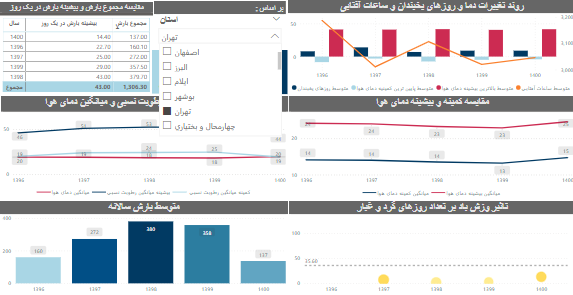

Layout of this report page (visuals, bound fields, positions):
{"tool":"powerbi","page":{"name":"وضعیت آب و هوا","canvas":[1280,720],"ordinal":0},"visuals":[{"type":"tableEx","title":"مقایسه مجموع بارش و بیشینه بارش در یک روز","fields":{"Values":["weathers.سال","Max(weathers.بیشینه بارندگی در یک روز (میلی متر))","Sum(weathers.بارندگی سالانه (میلی متر))"]},"box":[0,64.4,340,208.9],"z":0},{"type":"lineChart","title":"مقایسه کمینه و بیشینه دمای هوا","fields":{"Category":["weathers.سال"],"Y":["Avg(weathers.میانگین کمینه دمای هوا (درجه سلسیوس))","Avg(weathers.میانگین بیشینه دمای هوا (درجه سلسیوس))"]},"box":[642,273,637,232],"z":1000},{"type":"columnChart","title":"متوسط بارش سالانه","fields":{"Category":["weathers.سال"],"Y":["weathers.متوسط بارش سالانه"]},"box":[0,506,640,213],"z":2000},{"type":"lineChart","title":"مقایسه کمینه و بیشینه رطوبت نسبی و میانگین دمای هوا","fields":{"Category":["weathers.سال"],"Y":["Avg(weathers.میانگین دمای هوا (درجه سلسیوس))","Max(weathers.بیشینه میانگین رطوبت نسبی (درصد))","Min(weathers.کمینه میانگین رطوبت نسبی (درصد))"]},"box":[2,273,637.8,231.1],"z":3000},{"type":"lineClusteredColumnComboChart","title":"روند تغییرات دما و روزهای یخبندان و ساعات آفتابی","fields":{"Category":["weathers.سال"],"Y":["Avg(weathers.تعداد روزهای یخبندان)","Avg(weathers.پایین ترین کمینه دمای هوا (درجه سلسیوس))","Avg(weathers.بالاترین بیشینه دمای هوا (درجه سلسیوس))"],"Y2":["Avg(weathers.ساعات آفتابی)"]},"box":[640,59,640,213],"z":4000},{"type":"scatterChart","title":"تاثیر وزش باد بر تعداد روزهای گرد و غبار","fields":{"X":["weathers.سال"],"Y":["Avg(weathers.تعداد روزهای همراه با گرد و غبار)"],"Size":["Avg(weathers.بیشینه سرعت وزش باد (متر بر ثانیه))"]},"box":[643,507,637,213],"z":5000},{"type":"card","fields":{"Values":["weathers.پر بارش ترین سال"]},"box":[488,171,150,97.8],"z":6000},{"type":"card","fields":{"Values":["weathers.کم بارش ترین سال"]},"box":[337,171,150,97],"z":7000},{"type":"slicer","title":": بر اساس","fields":{"Values":["weathers.استان"]},"box":[342,63,293,105],"z":8000}]}

Visuals, with their boxes on the page's 1280x720 design canvas (x1, y1, x2, y2). These are canvas units, not pixel positions in the 573x295 screenshot, which may show the page scaled, cropped or inside an application window:
"مقایسه مجموع بارش و بیشینه بارش در یک روز" tableEx: box=[0, 64, 340, 273]
"مقایسه کمینه و بیشینه دمای هوا" lineChart: box=[642, 273, 1279, 505]
"متوسط بارش سالانه" columnChart: box=[0, 506, 640, 719]
"مقایسه کمینه و بیشینه رطوبت نسبی و میانگین دمای هوا" lineChart: box=[2, 273, 640, 504]
"روند تغییرات دما و روزهای یخبندان و ساعات آفتابی" lineClusteredColumnComboChart: box=[640, 59, 1280, 272]
"تاثیر وزش باد بر تعداد روزهای گرد و غبار" scatterChart: box=[643, 507, 1280, 720]
card - weathers.پر بارش ترین سال: box=[488, 171, 638, 269]
card - weathers.کم بارش ترین سال: box=[337, 171, 487, 268]
": بر اساس" slicer: box=[342, 63, 635, 168]
